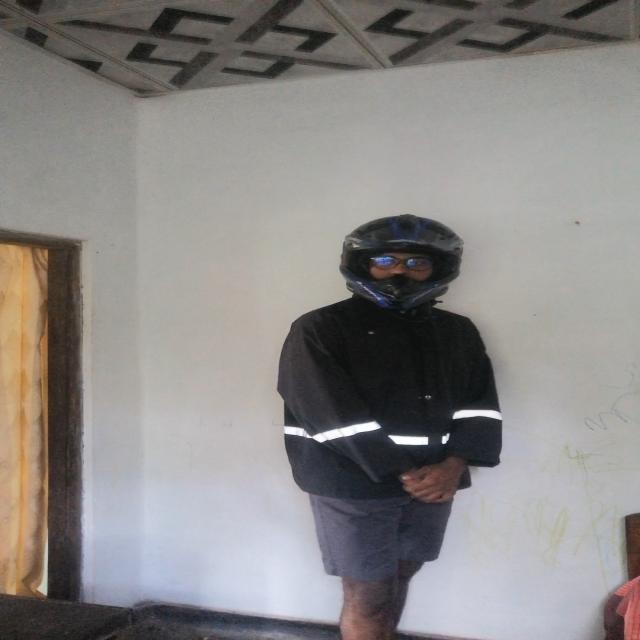Helmet_Wearer: (328, 210, 468, 317)
Jacket_Wearer: (287, 292, 507, 509)
Person: (268, 201, 499, 640)
